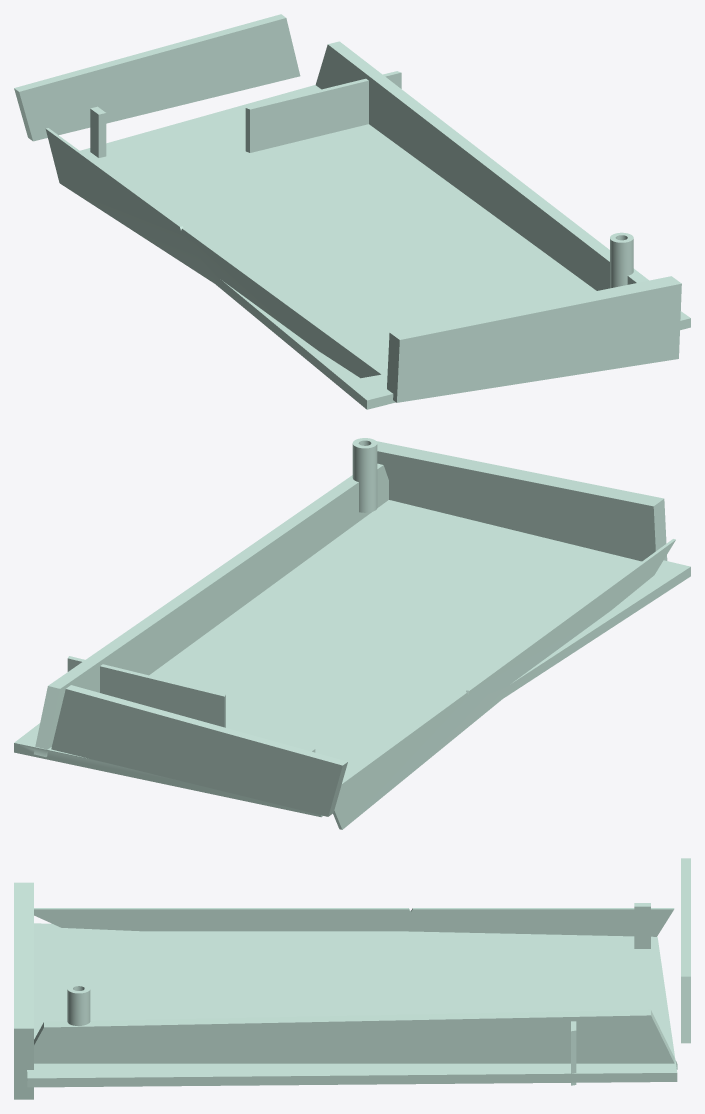
3 views of the same model, one above another, from view 1: azimuth 30°, elevation 25°; view 2: azimuth 150°, elevation 25°; view 3: azimuth 270°, elevation 25° (orthographic). The views are drawn at different scales.
Parts seen in each view (by area): view 1: Renderer Node; view 2: Renderer Node; view 3: Renderer Node.
Part boxes in pixels (left/top/right/bottom): Renderer Node: left=14, top=14, right=690, bottom=409; Renderer Node: left=14, top=438, right=690, bottom=829; Renderer Node: left=14, top=858, right=690, bottom=1099.
Size of the model in its own units: 0.8838 by 0.2578 by 1.59.
